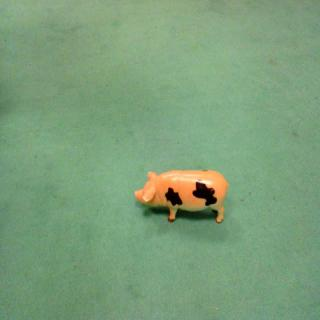pig: (132, 166, 230, 228)
